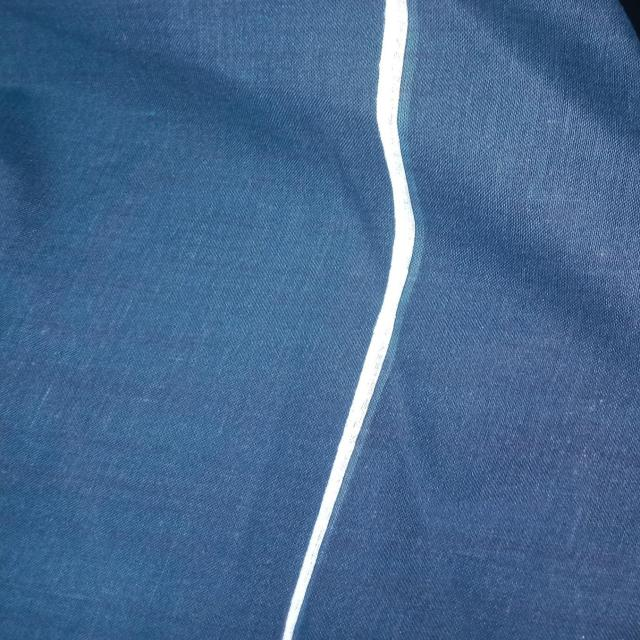selvet: (276, 242, 418, 636), (370, 4, 440, 243)
